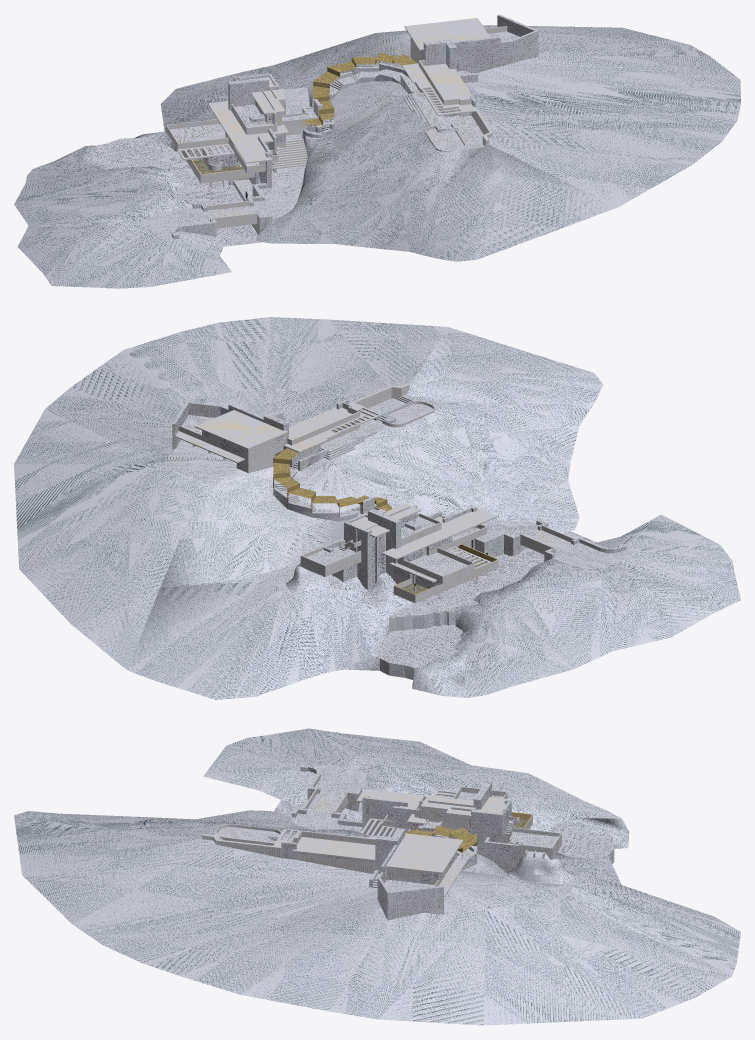
The model's file is FallingWater.fbx.
3 renders of one model, top to bottom at view 1: azimuth 30°, elevation 25°; view 2: azimuth 150°, elevation 25°; view 3: azimuth 270°, elevation 25°, orthographic. The views are drawn at different scales.
Parts seen in each view (by area): view 1: Mesh102, Mesh54, Mesh30, Mesh32, Mesh34, Mesh44, Mesh47, Mesh46, Mesh43, Mesh60, Mesh1, Mesh52 (+2 smaller); view 2: Mesh102, Mesh54, Mesh32, Mesh30, Mesh35, Mesh34, Mesh44, Mesh43, Mesh46, Mesh47, Mesh61, Mesh52; view 3: Mesh102, Mesh54, Mesh30, Mesh35, Mesh34, Mesh32, Mesh44, Mesh61, Mesh28, Mesh52, Mesh46.
Boxes of the visible parts, x1,y1,x2,y2 form: Mesh102: (14,25,740,288); Mesh54: (402,14,538,149); Mesh30: (146,87,309,239); Mesh32: (95,137,262,246); Mesh34: (166,77,286,173); Mesh44: (208,100,288,172); Mesh47: (303,62,411,137); Mesh46: (303,52,417,125); Mesh43: (181,149,277,183); Mesh60: (282,99,323,138); Mesh1: (272,139,307,169); Mesh52: (425,124,465,151); Mesh102: (14,317,740,699); Mesh54: (172,383,424,472); Mesh32: (376,531,596,679); Mesh30: (253,519,629,590); Mesh35: (300,513,389,590); Mesh34: (368,503,487,583); Mesh44: (382,508,497,559); Mesh43: (393,544,498,603); Mesh46: (273,448,391,517); Mesh47: (273,467,376,521); Mesh61: (285,563,334,600); Mesh52: (382,401,435,427); Mesh102: (14,728,740,1025); Mesh54: (202,828,467,920); Mesh30: (291,764,577,897); Mesh35: (471,797,561,873); Mesh34: (410,782,507,838); Mesh32: (273,800,614,863); Mesh44: (356,788,512,834); Mesh61: (508,851,576,884); Mesh28: (362,796,407,836); Mesh52: (215,824,281,844); Mesh46: (405,826,477,859).
Size of the model in its own units: 124 by 24.77 by 109.
Materials: 35 (32 with a texture image).
